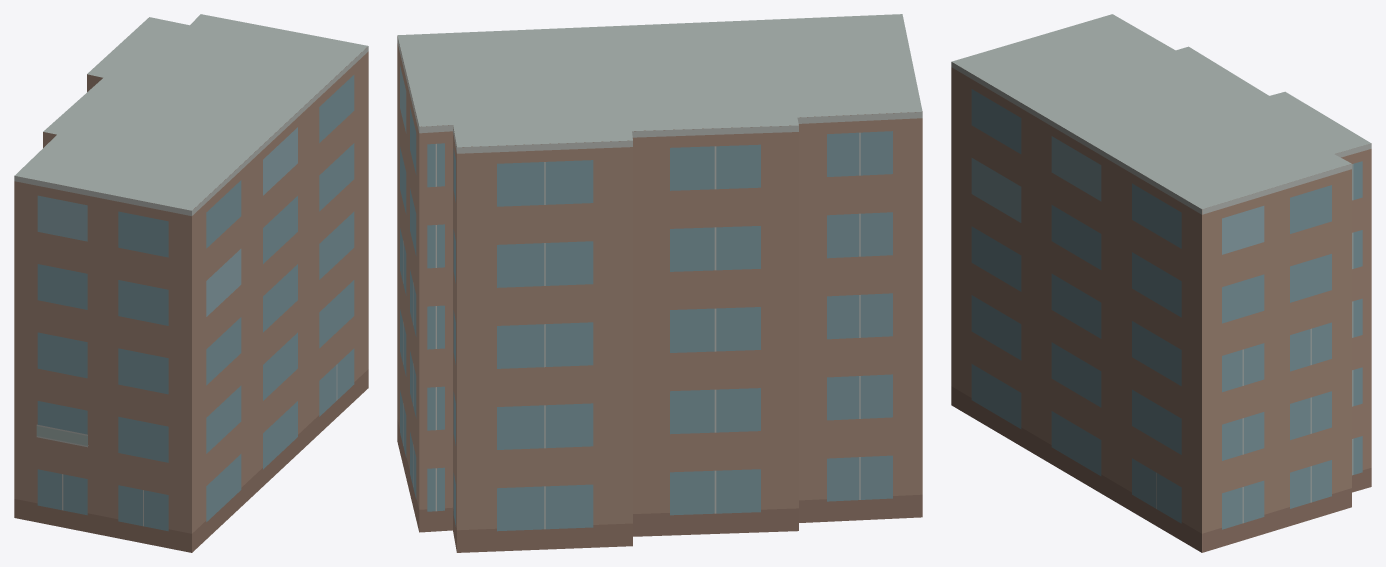
The model's file is survey-upis-32875464.glb.
3 views of the same model, side by side, from view 1: azimuth 30°, elevation 25°; view 2: azimuth 150°, elevation 25°; view 3: azimuth 270°, elevation 25° (orthographic). The views are drawn at different scales.
Parts seen in each view (by area): view 1: survey-upis-32875464.tmp; view 2: survey-upis-32875464.tmp; view 3: survey-upis-32875464.tmp.
Part boxes in pixels (bbox=[...]): survey-upis-32875464.tmp: bbox=[14, 14, 368, 552]; survey-upis-32875464.tmp: bbox=[397, 14, 922, 552]; survey-upis-32875464.tmp: bbox=[951, 14, 1371, 552].
Size of the model in its own units: 18.66 by 15.3 by 16.97.
